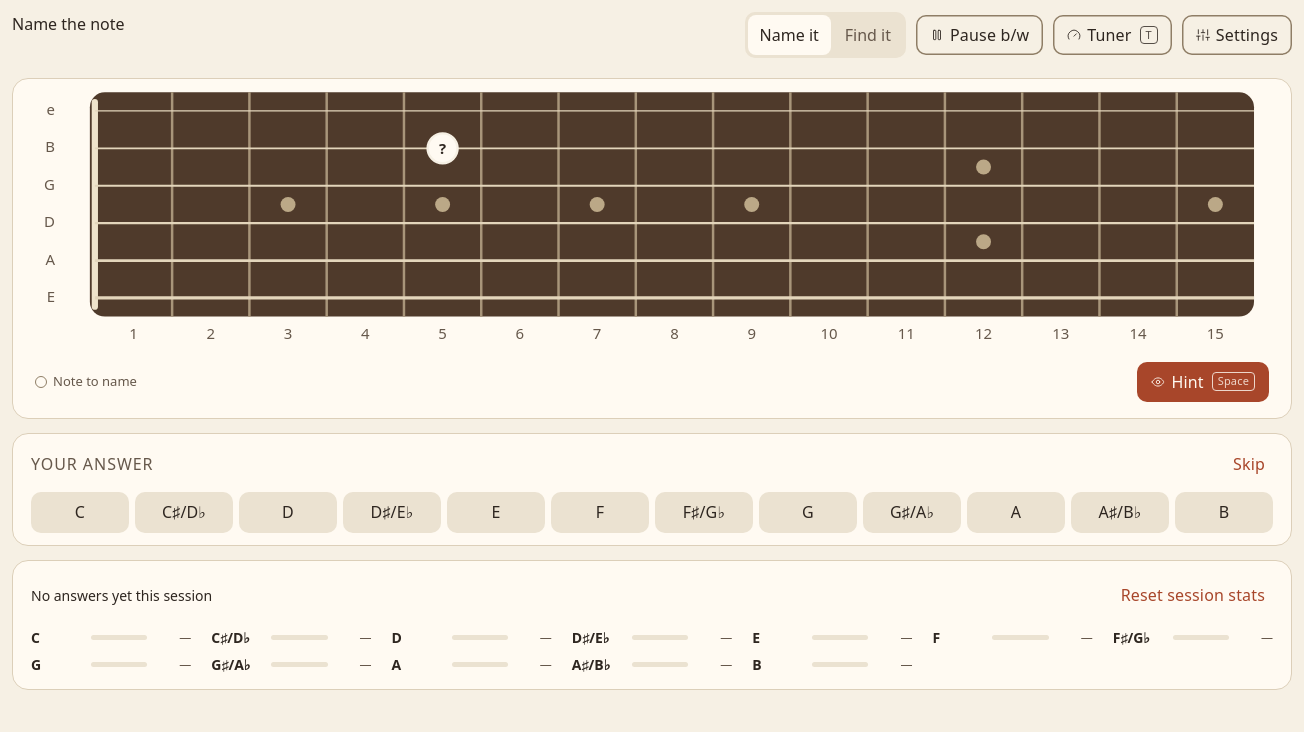
Test: NoteTrainer › offers two modes
Click the button "Find it" at coordinates (868, 35), box [833,15,903,55]
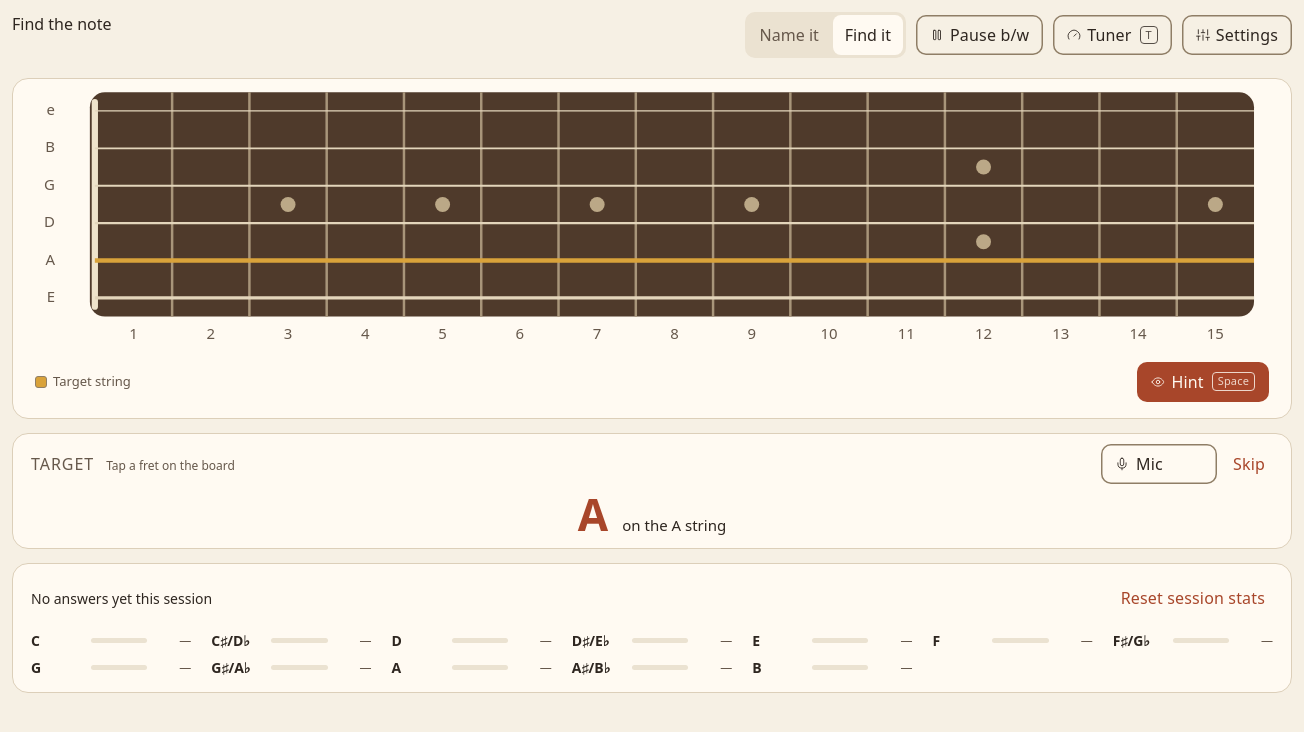
expect the heading "Find the note" is shown: met, box [12,12,112,36]
expect the text with test id "find-label" is shown: met, box [578,492,608,536]
